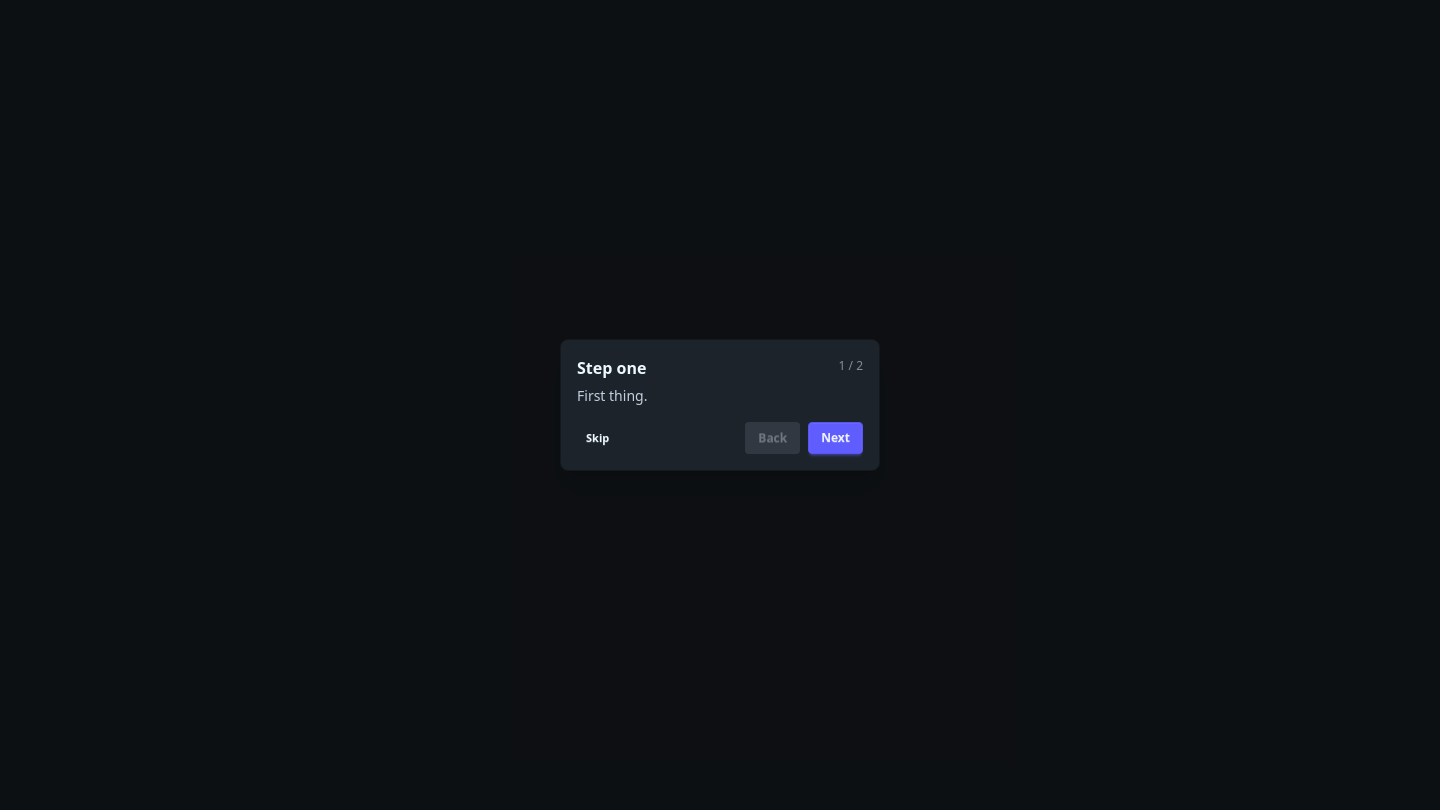
it: TourOverlay › Back returns to the previous step
Click the button "Next".
click(836, 438)  # box top-left (808, 422), bottom-right (863, 454)
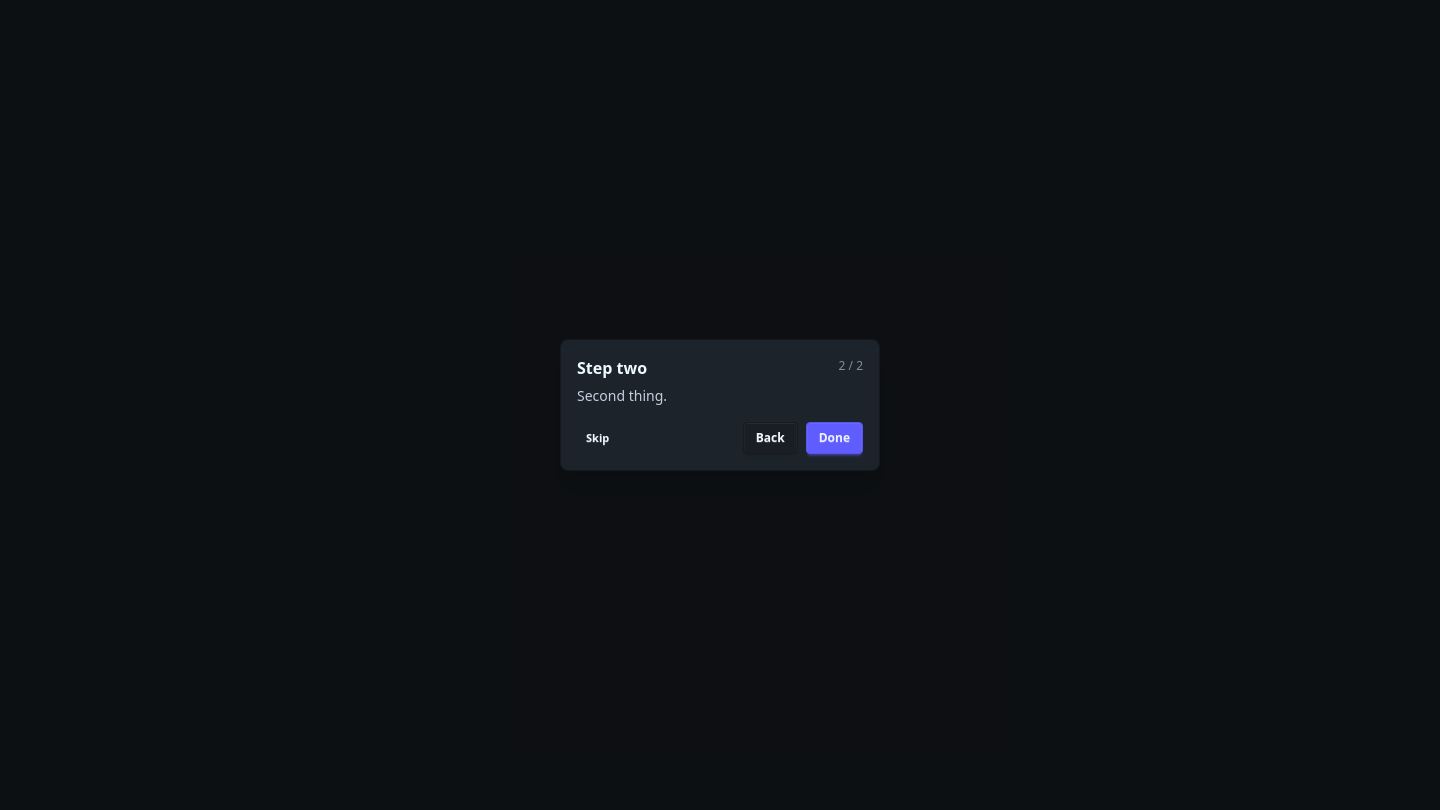
Expected: the text "2 / 2" is shown, top-left (839, 358), bottom-right (863, 374)
Click the button "Back".
click(770, 438)  # box top-left (743, 422), bottom-right (798, 454)
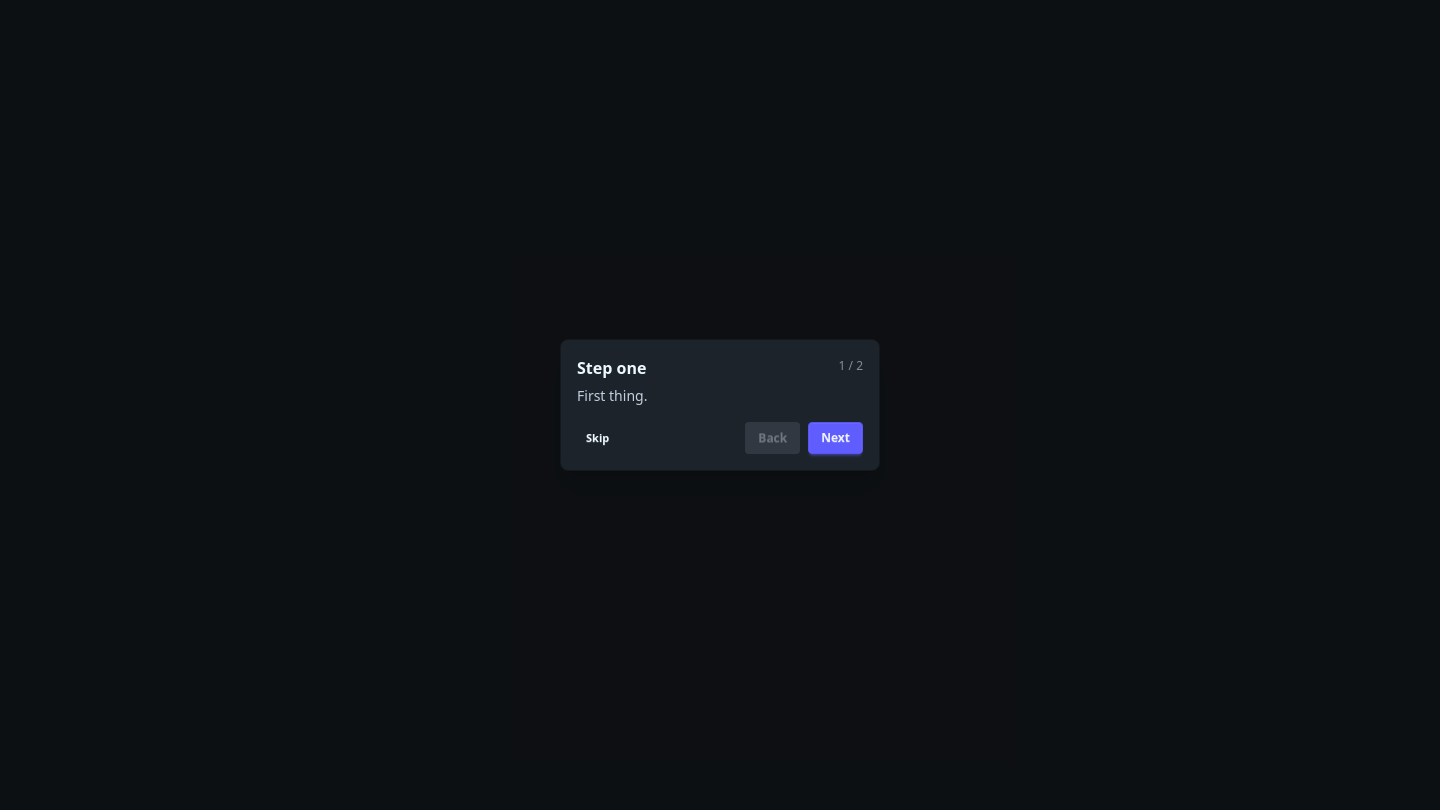
Expected: the text "1 / 2" is shown, top-left (839, 358), bottom-right (863, 374)
